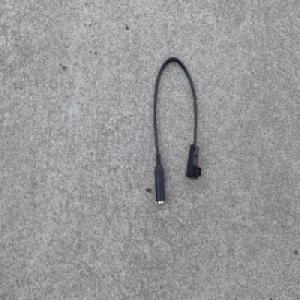Wire: (149, 54, 200, 206)
